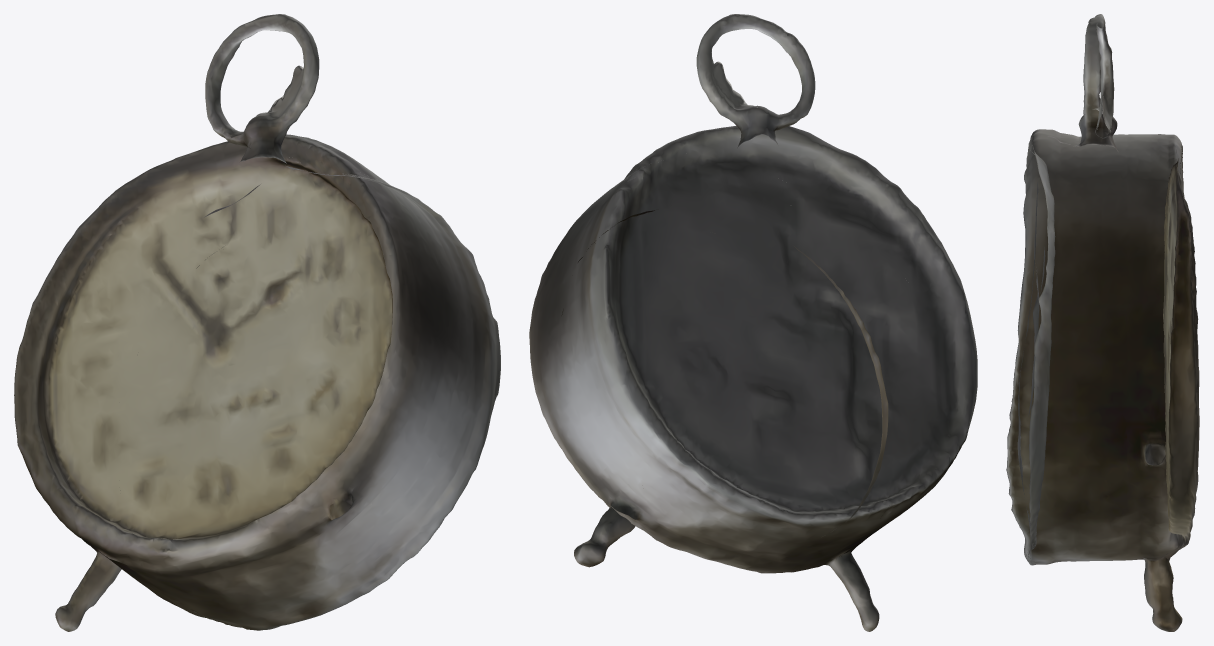
Rendered from alarm_ours.glb.
3 views of the same model, side by side, from view 1: azimuth 30°, elevation 25°; view 2: azimuth 150°, elevation 25°; view 3: azimuth 270°, elevation 25° (orthographic). The views are drawn at different scales.
Size of the model in its own units: 0.7924 by 1.1 by 0.354.
